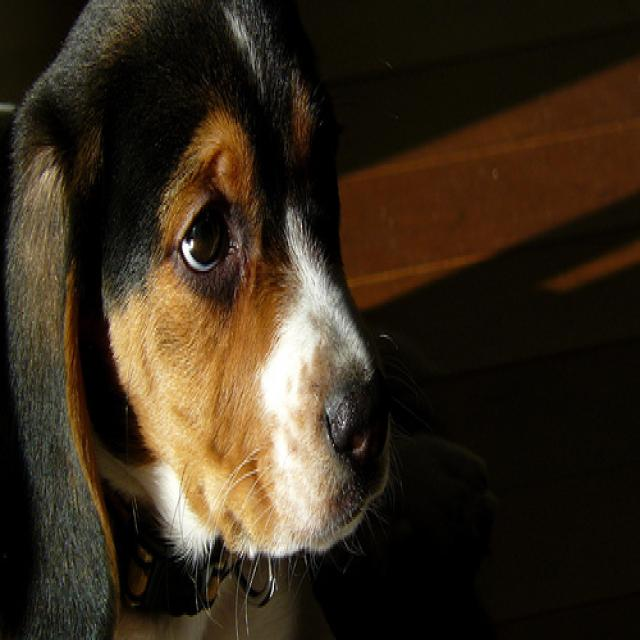dog-beagle: (1, 2, 403, 635)
